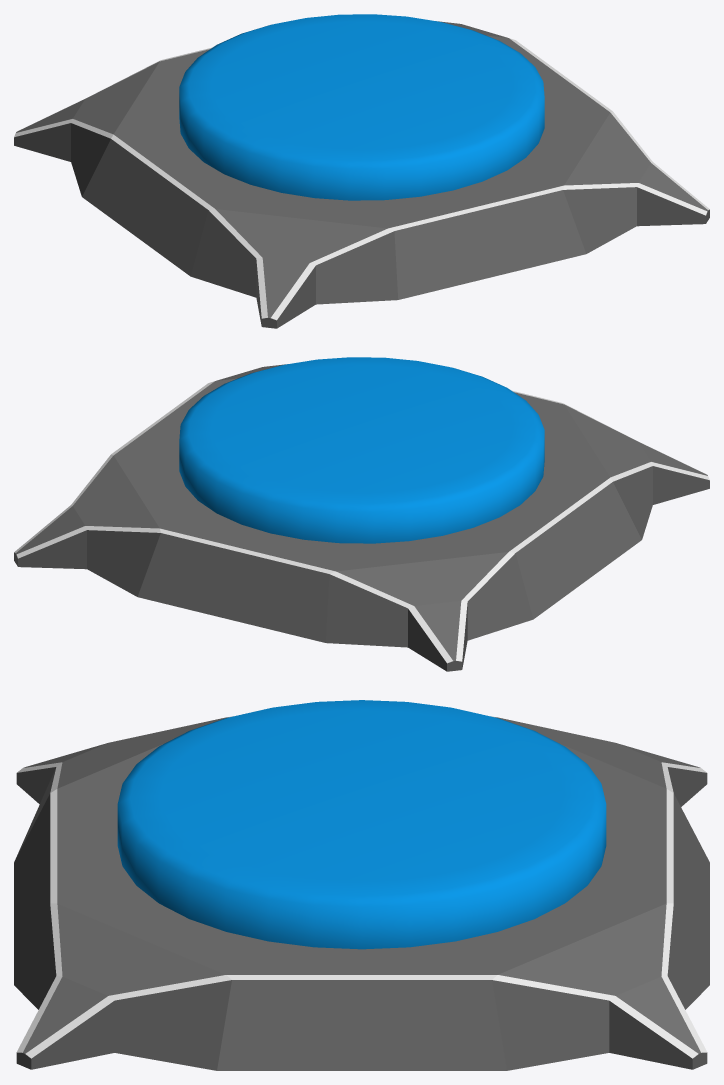
Rendered from Button.fbx.
3 views of the same model, one above another, from view 1: azimuth 30°, elevation 25°; view 2: azimuth 150°, elevation 25°; view 3: azimuth 270°, elevation 25° (orthographic). The views are drawn at different scales.
Visible parts, largest first — view 1: Cube, Cube.001; view 2: Cube, Cube.001; view 3: Cube, Cube.001.
Part boxes in pixels (left/top/right/bottom): Cube: left=14, top=21, right=709, bottom=328; Cube.001: left=179, top=14, right=544, bottom=200; Cube: left=14, top=364, right=709, bottom=671; Cube.001: left=179, top=357, right=544, bottom=543; Cube: left=14, top=716, right=709, bottom=1070; Cube.001: left=117, top=700, right=606, bottom=949.
Size of the model in its own units: 200 by 40.67 by 200.
